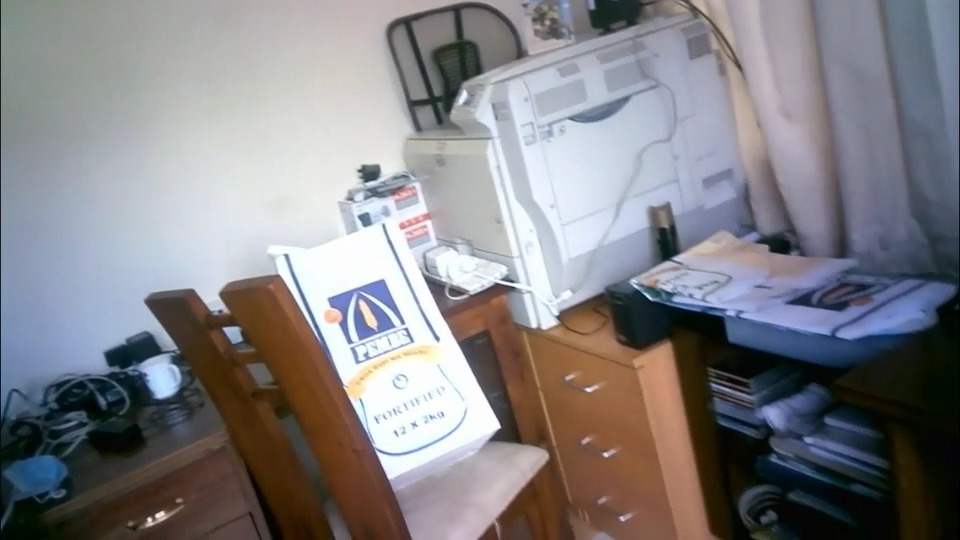wheat_flour_blue_label: (275, 217, 501, 484)
